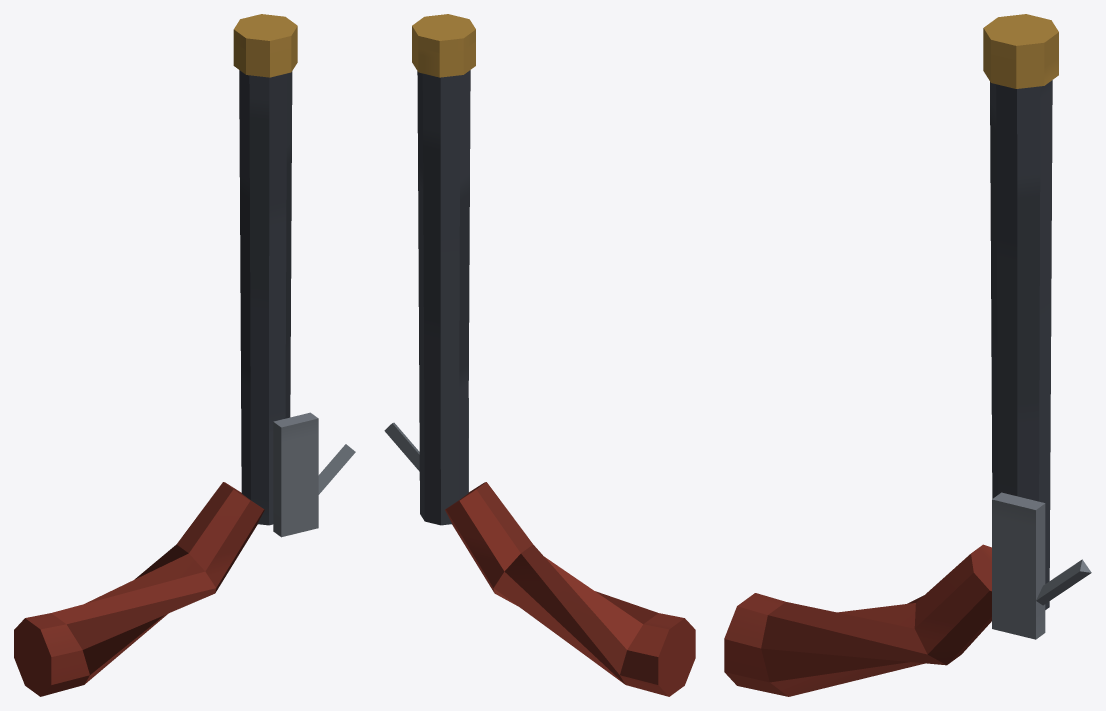
The model's file is SM_Prop_Flintlock_HQ.glb.
The picture shows the model from 3 angles, left to right: view 1: azimuth 30°, elevation 25°; view 2: azimuth 150°, elevation 25°; view 3: azimuth 330°, elevation 25°; orthographic projection. The views are drawn at different scales.
Parts seen in each view (by area): view 1: SM_Prop_Flintlock_HQ; view 2: SM_Prop_Flintlock_HQ; view 3: SM_Prop_Flintlock_HQ.
Part boxes in pixels (<box>): SM_Prop_Flintlock_HQ: <box>14,14,355,696</box>; SM_Prop_Flintlock_HQ: <box>384,14,695,696</box>; SM_Prop_Flintlock_HQ: <box>724,14,1091,696</box>.
Size of the model in its own units: 0.2634 by 0.4977 by 0.0577.
1 material, 1 textured.
